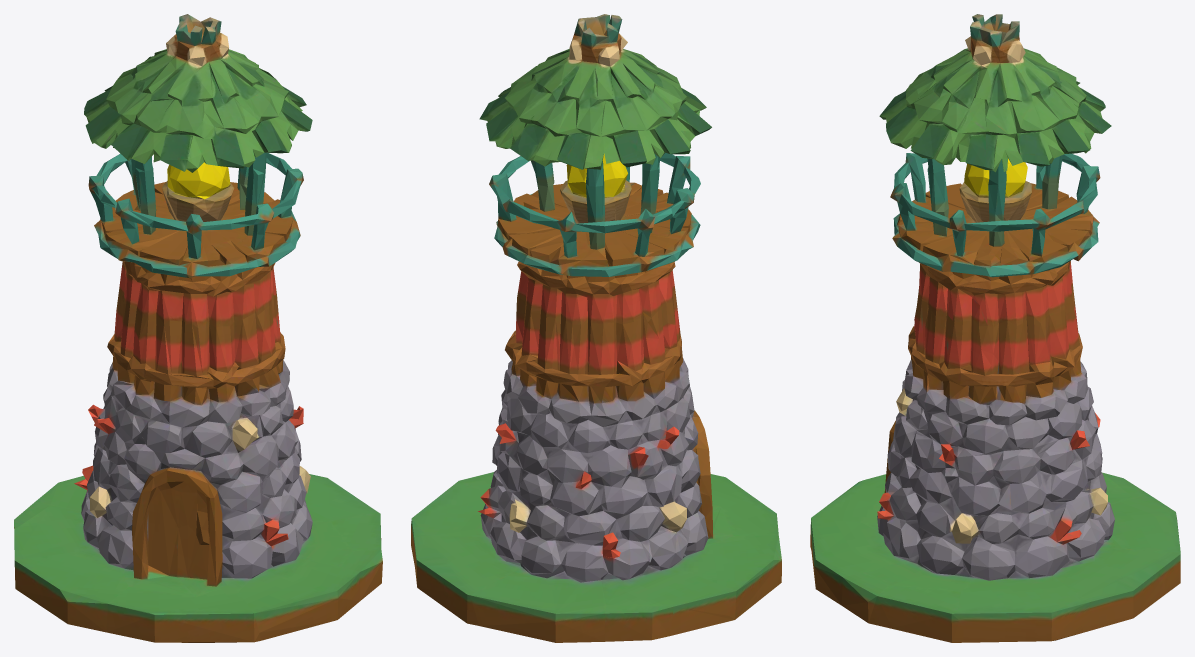
Rendered from island-lighthouse.glb.
The picture shows the model from 3 angles, left to right: view 1: azimuth 30°, elevation 25°; view 2: azimuth 150°, elevation 25°; view 3: azimuth 270°, elevation 25°; orthographic projection.
Parts seen in each view (by area): view 1: tripo_node_bc953e3c-03ef-4cdc-9220-cf167f35007e; view 2: tripo_node_bc953e3c-03ef-4cdc-9220-cf167f35007e; view 3: tripo_node_bc953e3c-03ef-4cdc-9220-cf167f35007e.
Part boxes in pixels (x1,y1,x2,y2): tripo_node_bc953e3c-03ef-4cdc-9220-cf167f35007e: (14,14,382,642); tripo_node_bc953e3c-03ef-4cdc-9220-cf167f35007e: (411,14,781,642); tripo_node_bc953e3c-03ef-4cdc-9220-cf167f35007e: (810,14,1180,642).
Size of the model in its own units: 0.6159 by 0.9986 by 0.6147.
Materials: 1 (1 with a texture image).
